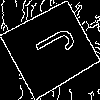J: (25, 24, 77, 69)
